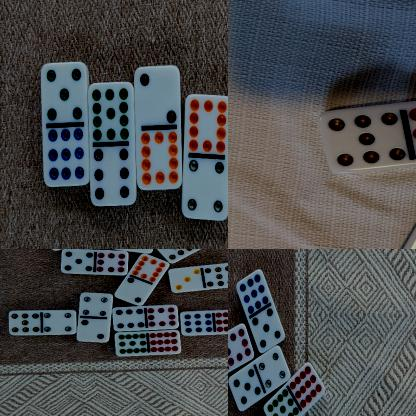pip-10: (136, 130, 182, 191), (183, 95, 228, 156), (131, 254, 169, 283)
pip-11: (88, 83, 136, 146), (262, 388, 298, 416), (113, 332, 147, 356)
pip-12: (289, 364, 325, 409), (147, 330, 182, 355), (214, 310, 228, 335)
pip-2: (133, 67, 181, 131), (113, 277, 146, 306), (75, 318, 110, 344)
pip-3: (168, 266, 202, 295)
pip-4: (181, 157, 228, 220), (258, 346, 290, 390), (41, 310, 76, 336), (78, 294, 112, 318)
pip-5: (40, 63, 88, 125), (251, 308, 285, 353), (228, 368, 261, 412), (59, 250, 95, 274)
pip-6: (89, 144, 137, 208), (110, 307, 146, 332)
pip-7: (319, 105, 406, 176), (7, 310, 42, 337), (202, 263, 228, 289), (153, 249, 192, 263)
pip-8: (228, 324, 253, 365), (146, 305, 180, 330), (94, 252, 128, 276)
pip-9: (41, 126, 88, 187), (235, 270, 268, 316), (180, 310, 214, 336)
